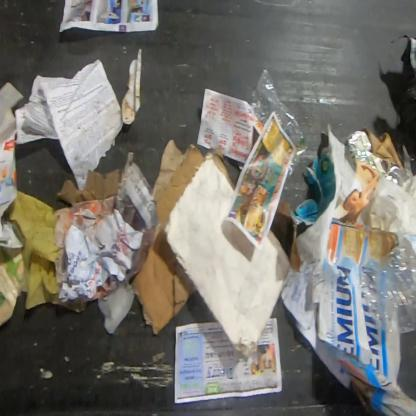cardboard: (164, 148, 292, 356), (53, 151, 160, 336), (130, 138, 204, 335), (0, 81, 26, 250), (0, 246, 26, 327), (364, 126, 404, 169)
rigid_plastic: (352, 233, 415, 335)
soft_plastic: (249, 69, 310, 178), (389, 33, 415, 177), (347, 131, 409, 187)
